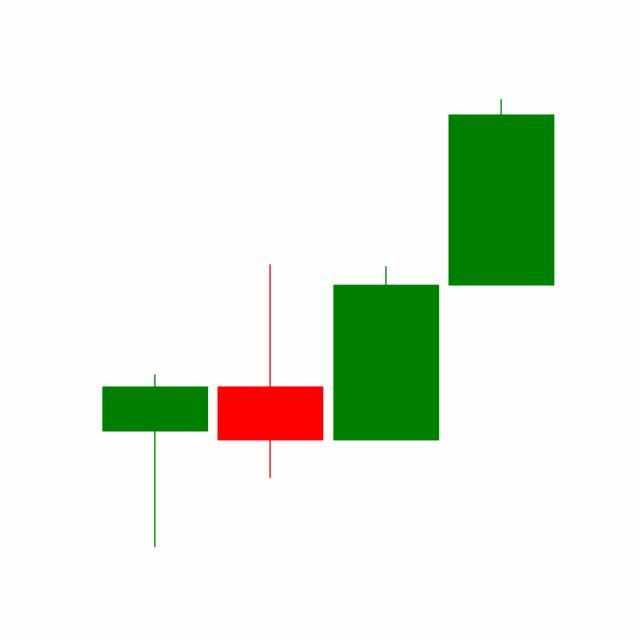Marubozu: (444, 98, 560, 288)
